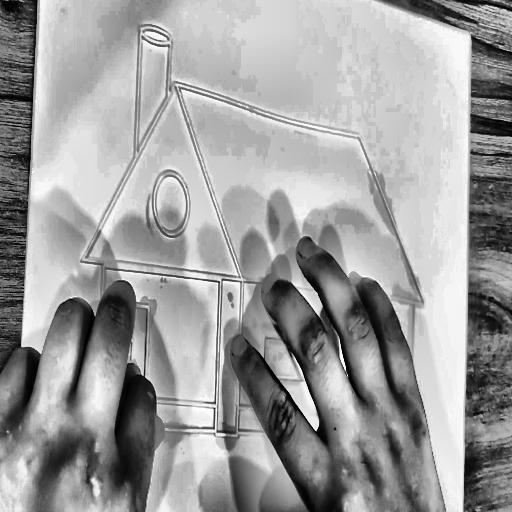house: (64, 0, 452, 469)
top_right: (466, 27, 474, 40)
